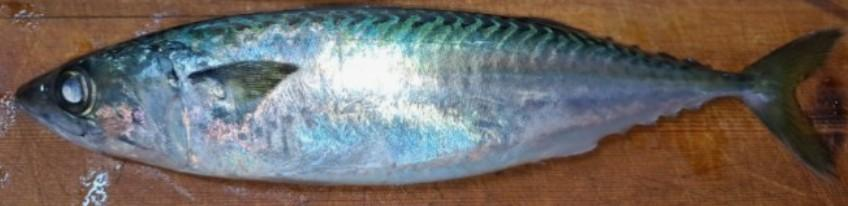fish: (16, 6, 839, 183)
